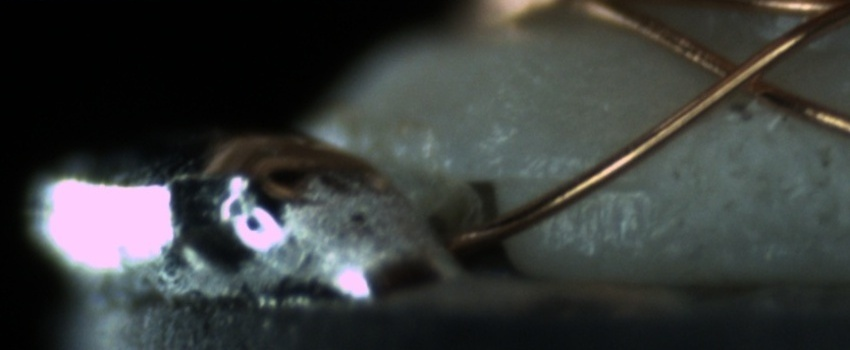CL: (692, 38, 789, 110)
DL: (508, 150, 639, 209)
